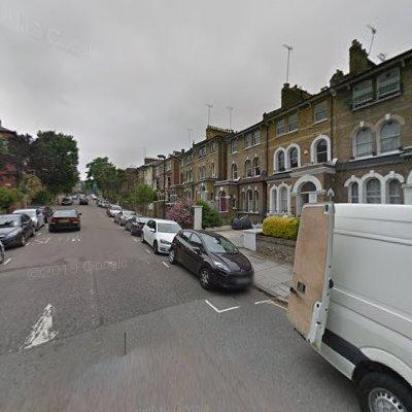moving-car: (48, 208, 83, 232), (78, 195, 88, 205)
stationary-car-onstreet: (168, 229, 254, 293), (140, 218, 184, 256), (0, 213, 36, 249), (11, 207, 46, 230), (125, 215, 152, 237), (112, 210, 135, 226), (105, 204, 121, 217), (60, 196, 72, 206)
stationary-light-truck-onstreet: (286, 200, 412, 412)
